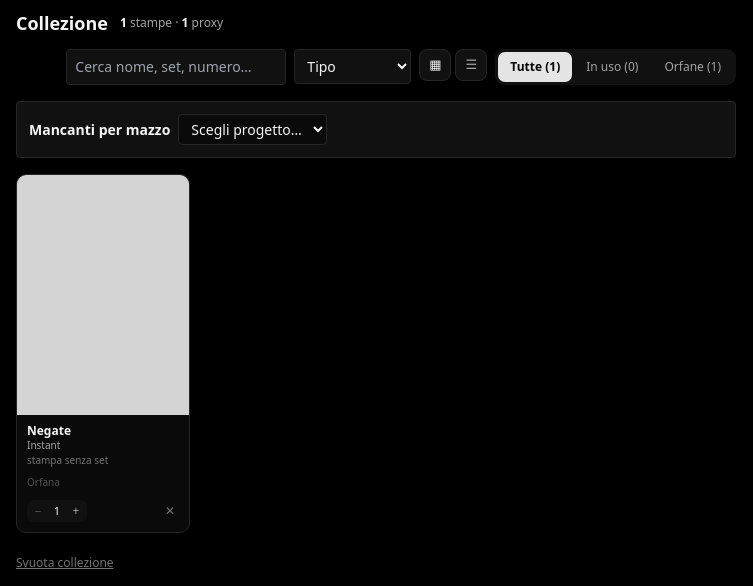
Test: CollectionView › vista lista e griglia
Click the button with test id "collection-view-list" at (471, 65), box [455,49,487,81]
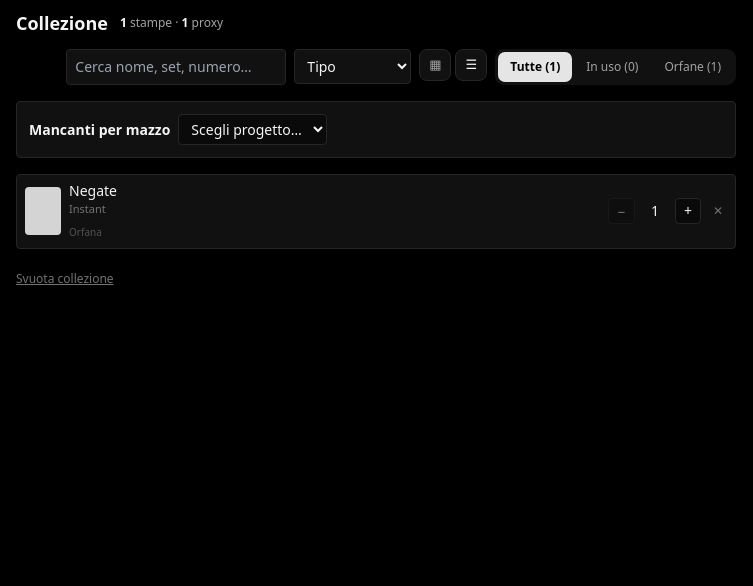
Result: the element with test id "collection-grid" is gone
Result: the list item with test id "collection-row-negate‖‖" is shown at [16,174,736,248]
